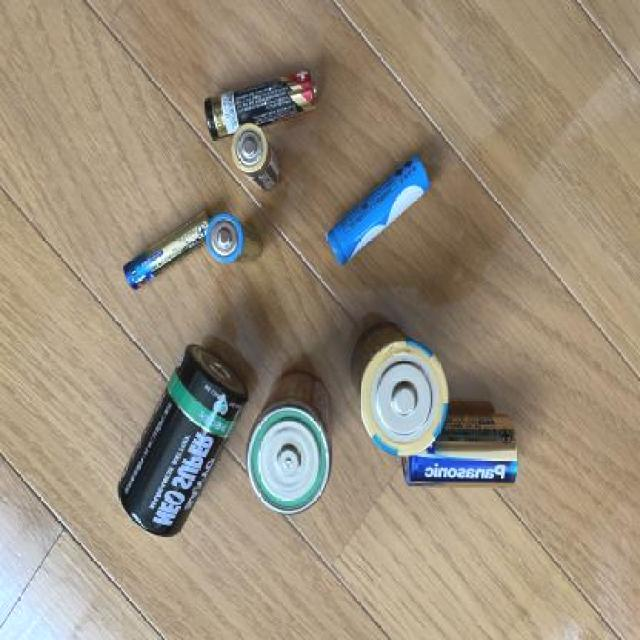AA: (324, 150, 432, 270), (205, 66, 322, 140)
AAA: (121, 206, 216, 291)
